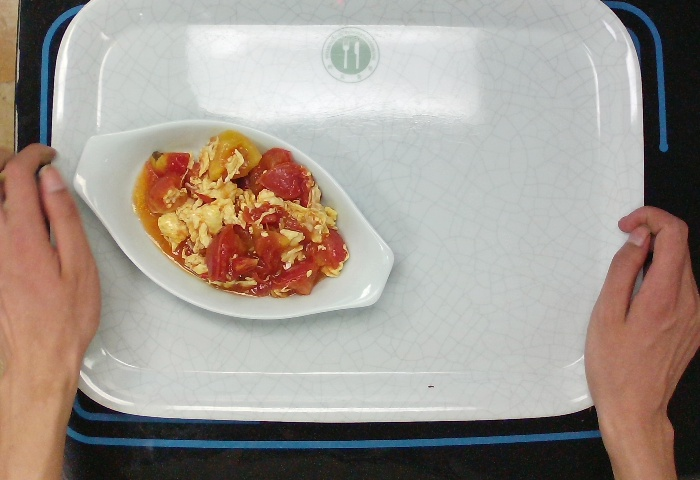JYsf-Yu_Pan: (70, 115, 397, 322)
